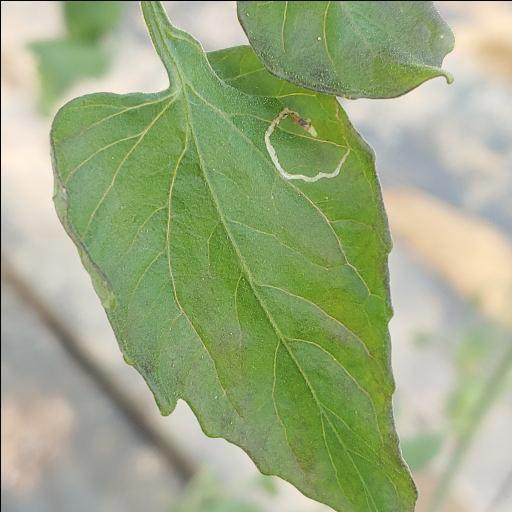disease_tomato: (47, 42, 417, 509)
